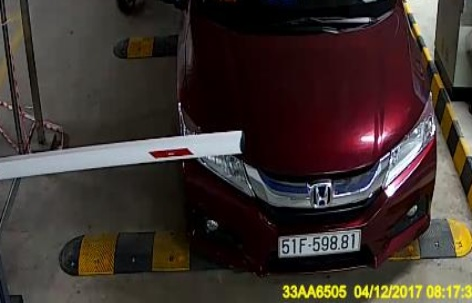plate: (274, 226, 368, 259)
